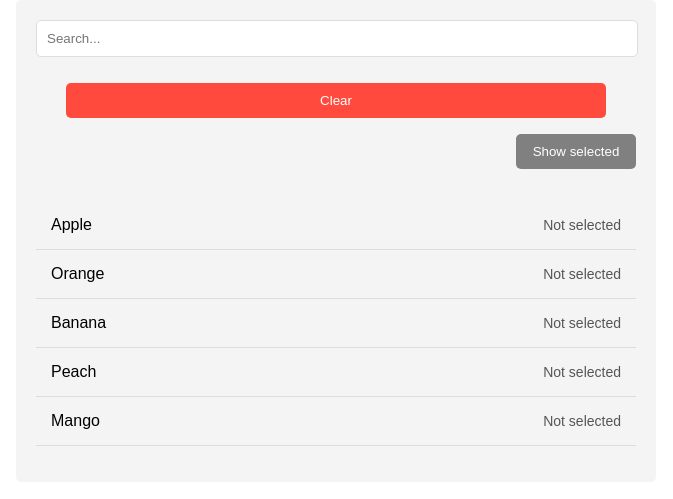
Scenario: clear search button works correctly
Type "apple" into the field with placeholder "Search...".
click(337, 38); type("apple")  # box [36,20,638,57]
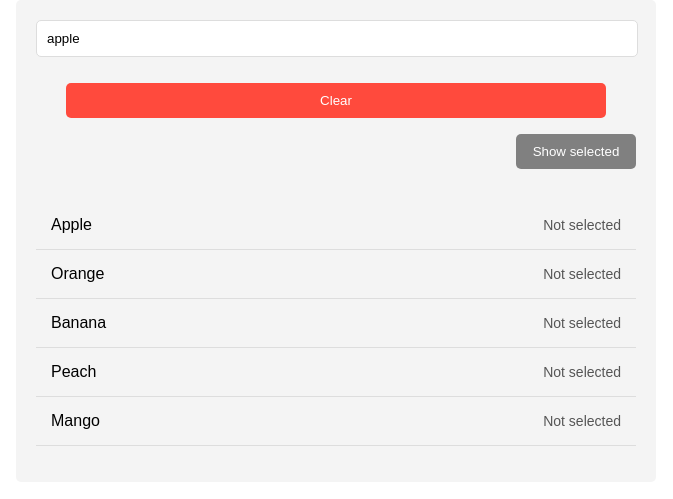
Click the button "Clear".
click(336, 100)  # box [66,83,606,118]
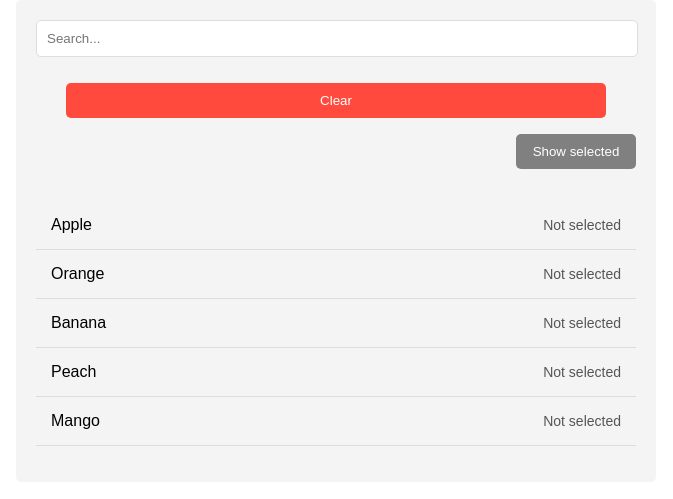
Check: the text "Apple" is shown, box [51,216,92,234]
Check: the field with placeholder "Search..." is empty, box [36,20,638,57]
